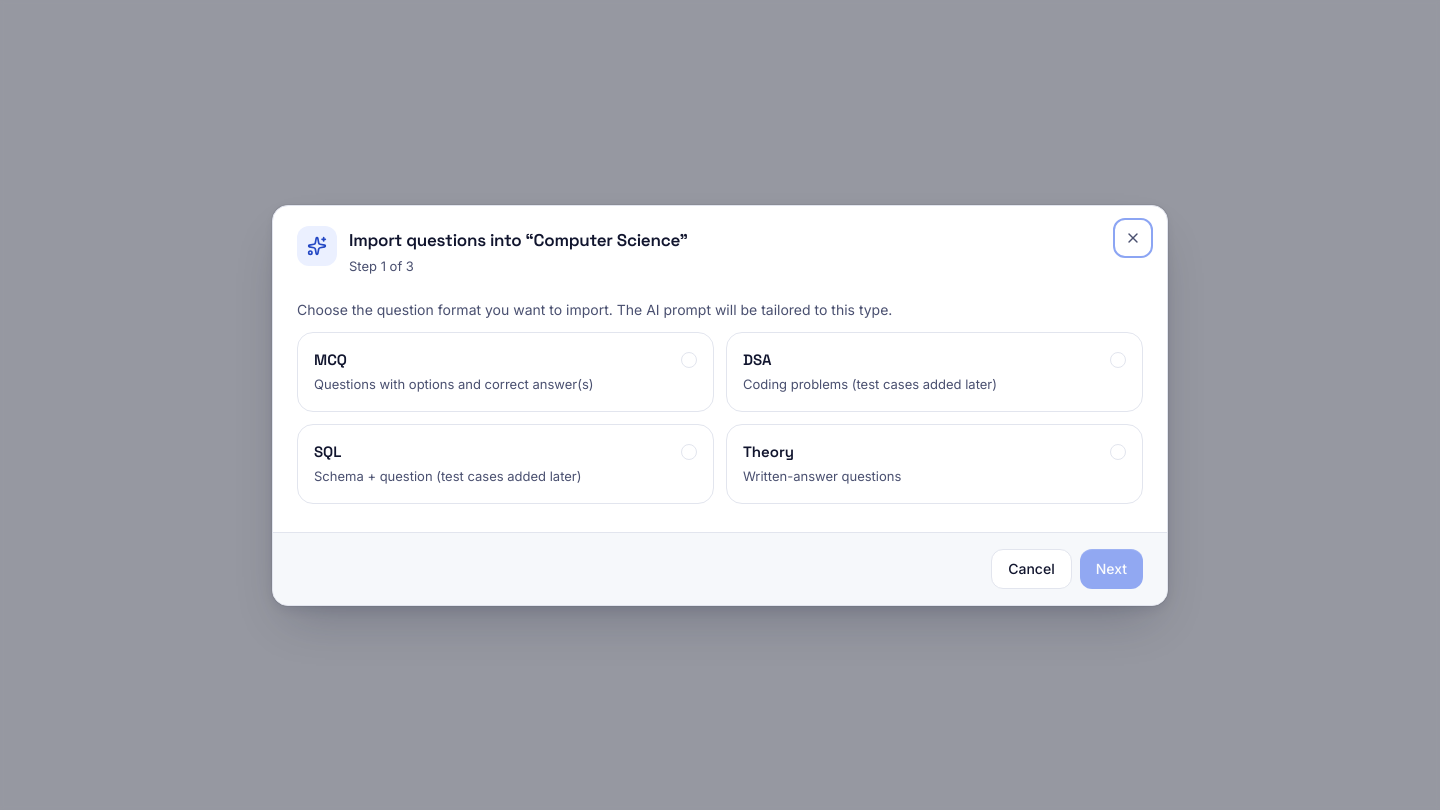
Scenario: QuestionImportDialog › 1. Step navigation: Next disabled until type is chosen; Back returns without losing chosen type
This screenshot has width=1440, height=810.
Expected: the text "Step 1 of 3" is shown, [349,258,414,274]
Expected: the button "Next" is disabled, [1080,548,1143,588]
Select MCQ
Click the text "MCQ". click: x=330, y=360
box: [314,348,347,371]
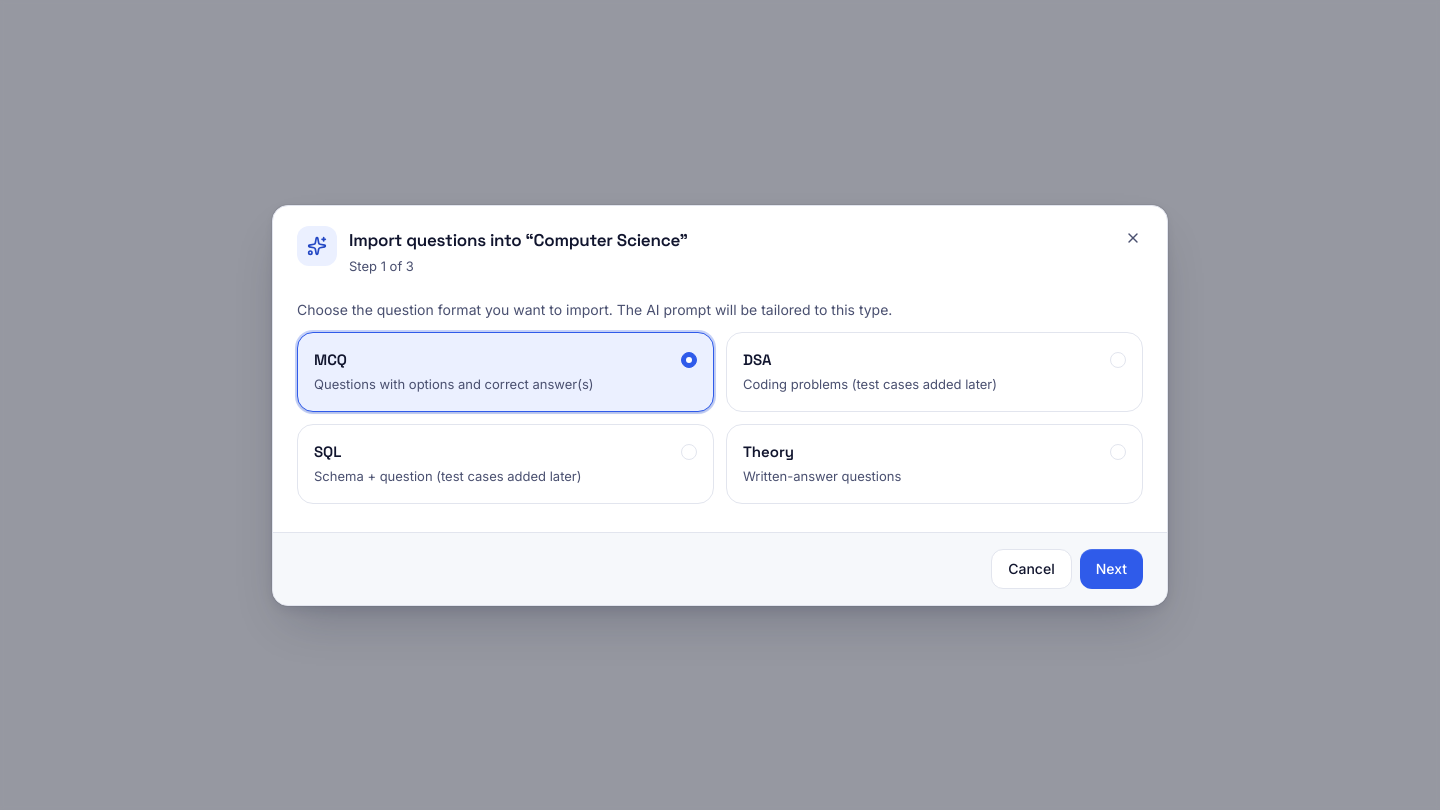
Result: the button "Next" is enabled
Click the button "Next". click: x=1111, y=568
box: [1080,548,1143,588]
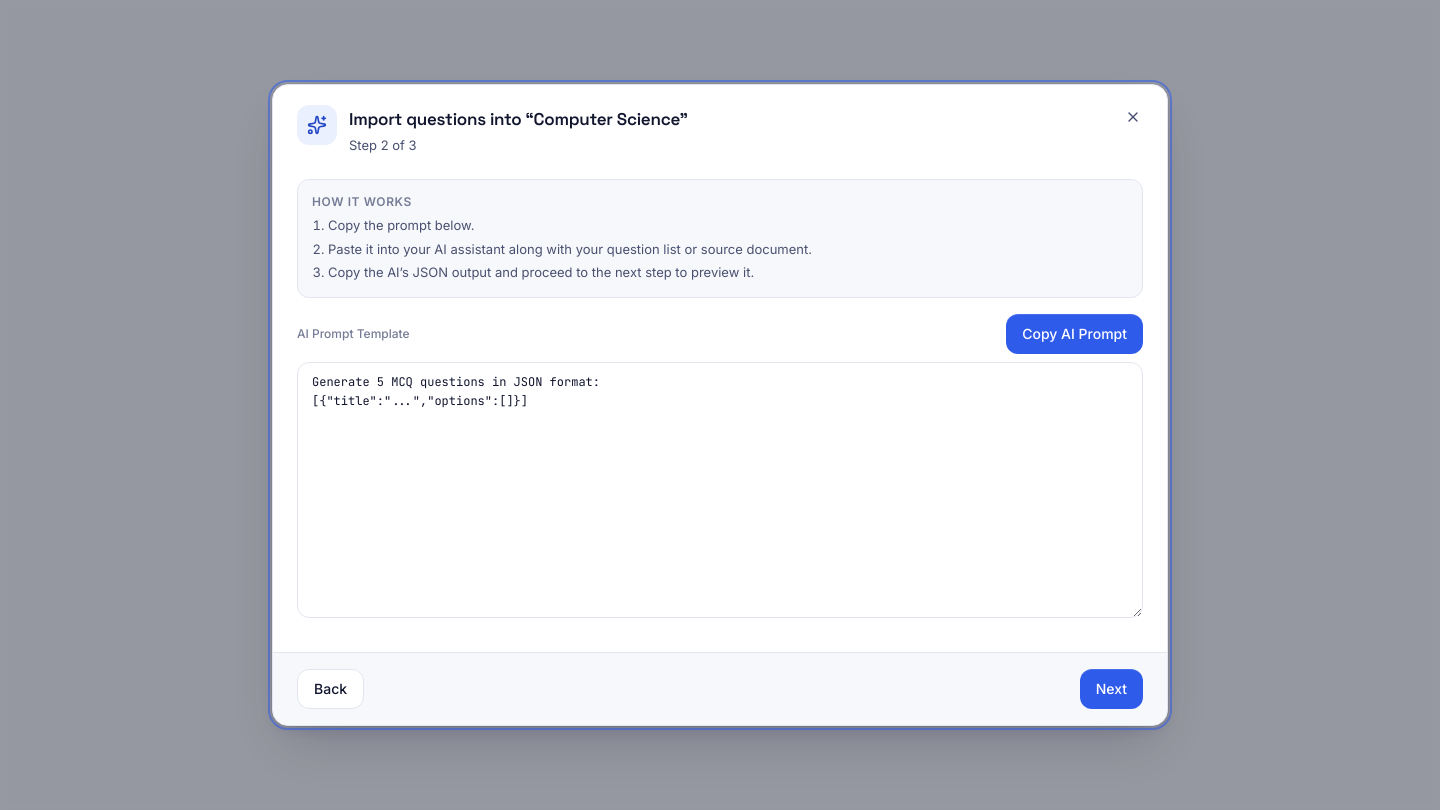
Result: the text "Step 2 of 3" is shown at [349,137,416,153]
Click Back
Click the button "Back". click: x=331, y=689
box: [297,669,364,709]
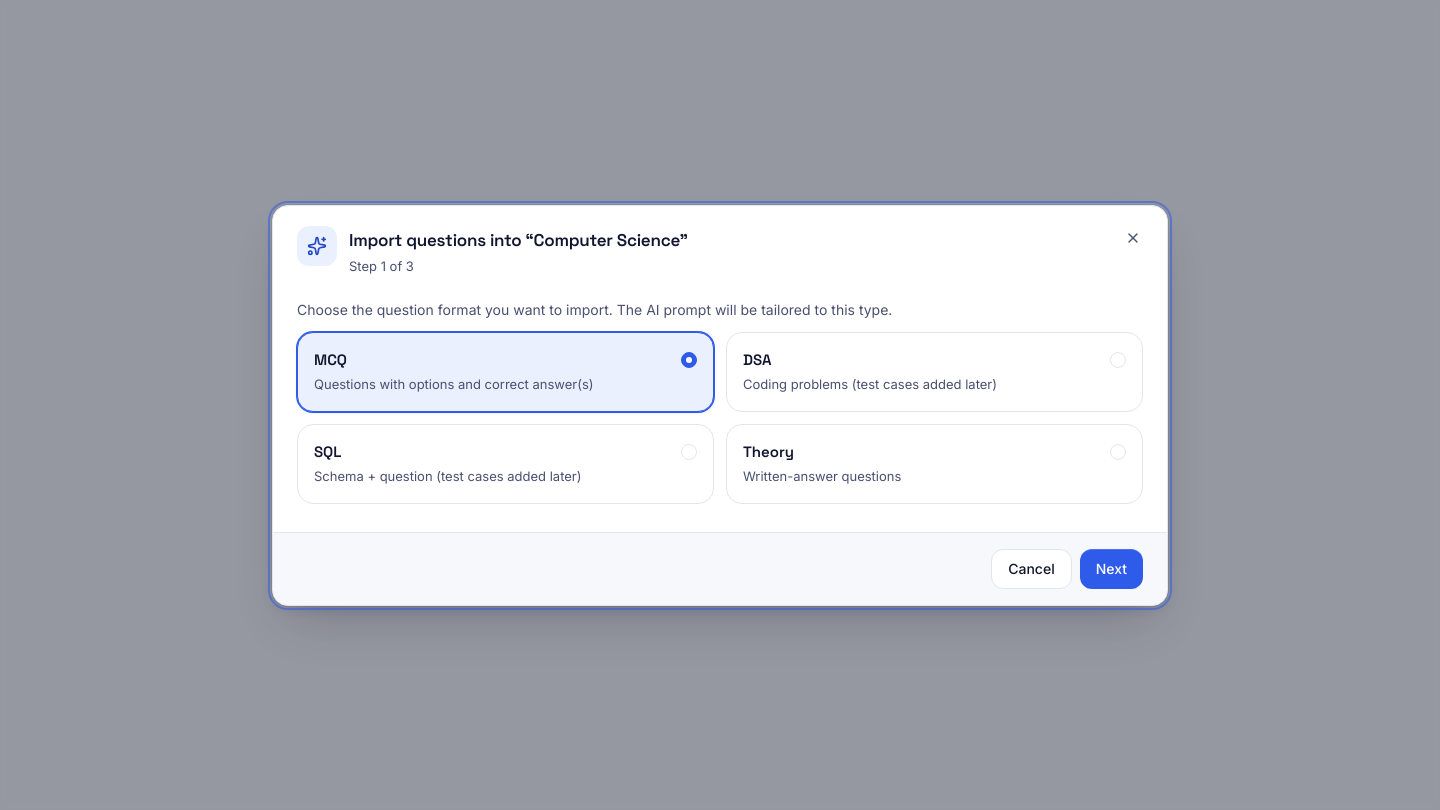
Result: the button "Next" is enabled at [1080,548,1143,588]
Result: the text "Step 1 of 3" is shown at [349,258,414,274]
